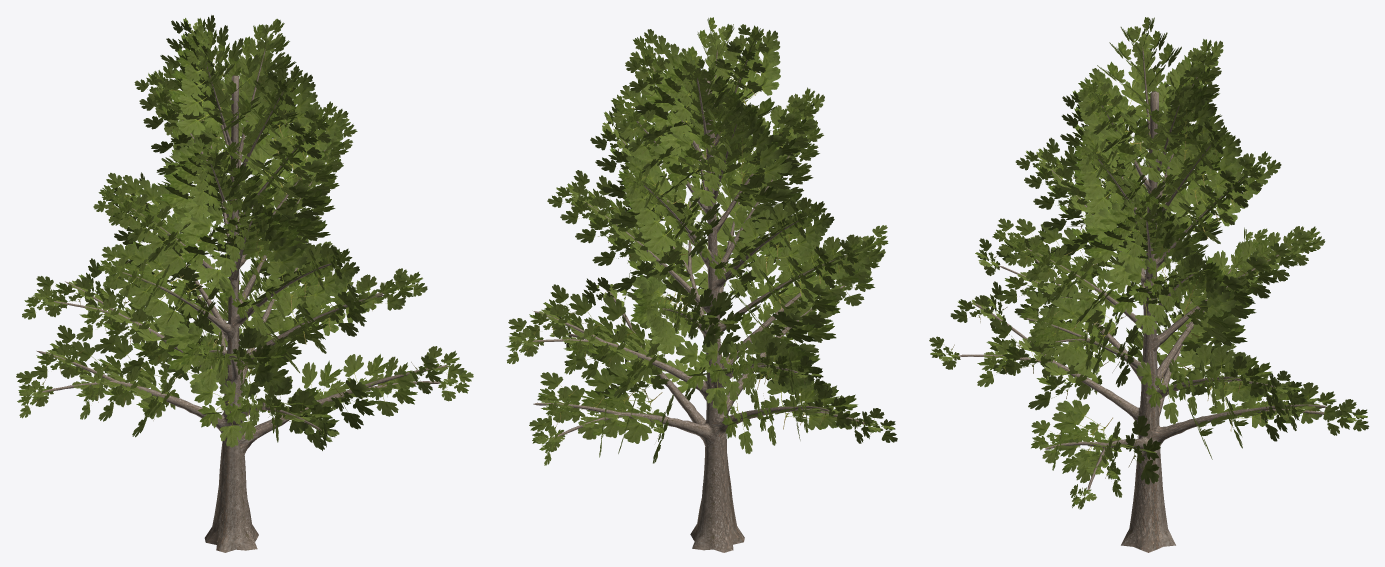
The model's file is Tree3.obj.
The picture shows the model from 3 angles, left to right: view 1: azimuth 30°, elevation 25°; view 2: azimuth 150°, elevation 25°; view 3: azimuth 270°, elevation 25°; orthographic projection. The views are drawn at different scales.
Visible parts, largest first — view 1: branch05, bark_willow_02_diff_1k; view 2: branch05, bark_willow_02_diff_1k; view 3: branch05, bark_willow_02_diff_1k.
Part boxes in pixels (x1,y1,x2,y2): branch05: (16,15,473,450); bark_willow_02_diff_1k: (36,47,450,552); branch05: (506,17,897,465); bark_willow_02_diff_1k: (532,50,864,552); branch05: (929,17,1369,509); bark_willow_02_diff_1k: (958,47,1327,552).
Bounding box in the file's own units: 159 × 198 × 156.
